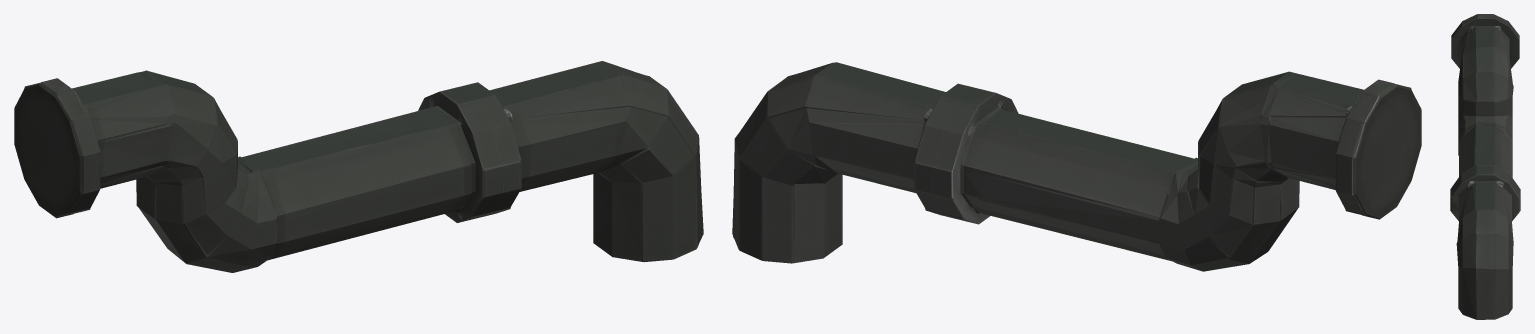
Rendered from pipe_elbow.glb.
The picture shows the model from 3 angles, left to right: view 1: azimuth 30°, elevation 25°; view 2: azimuth 150°, elevation 25°; view 3: azimuth 270°, elevation 25°; orthographic projection. The views are drawn at different scales.
Size of the model in its own units: 1.9 by 0.8337 by 0.3562.
Materials: 1 (1 with a texture image).
